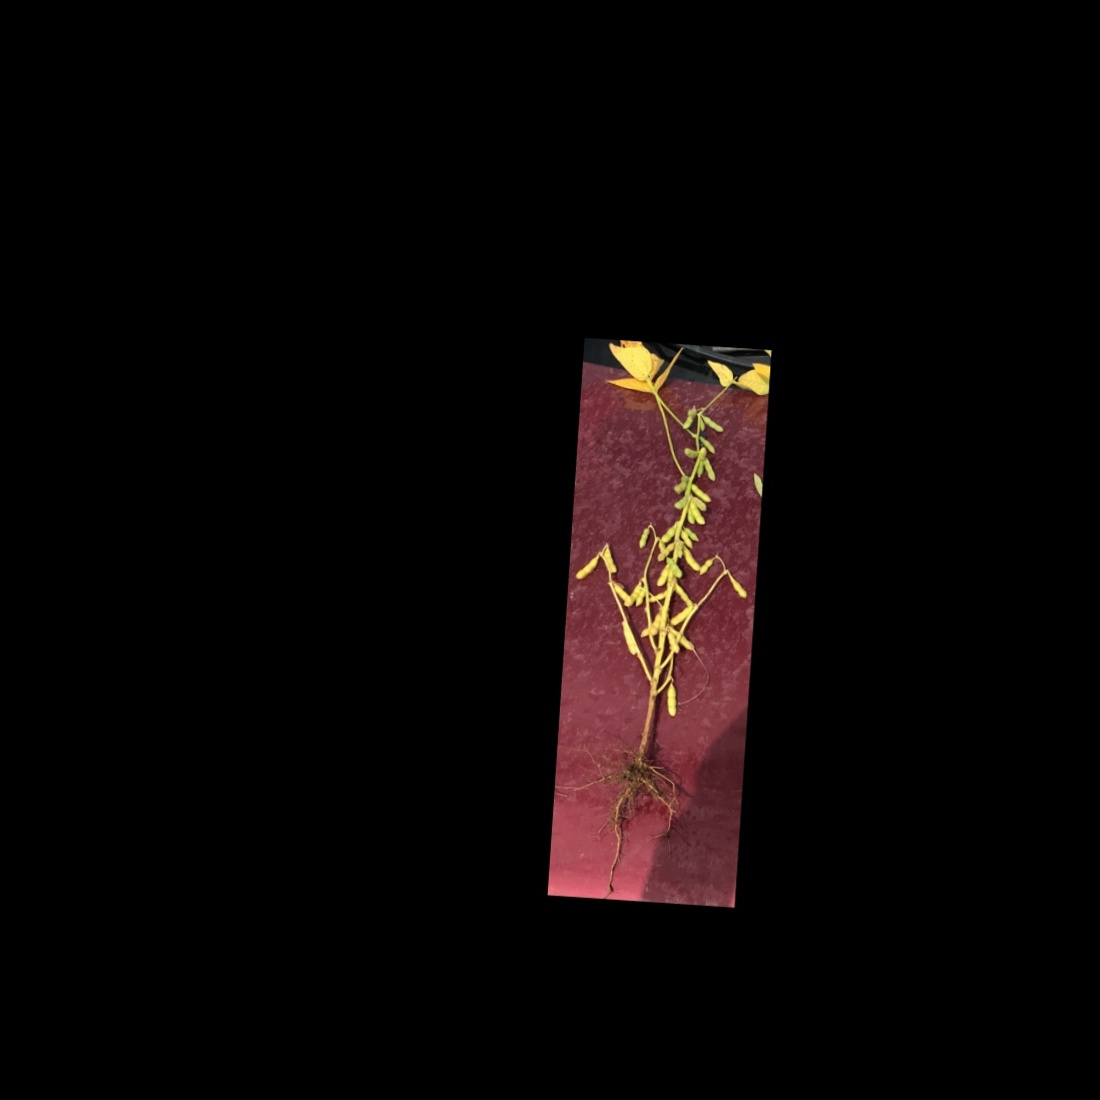pod: (574, 551, 601, 583), (609, 579, 637, 607), (698, 411, 727, 437), (599, 543, 621, 576), (662, 681, 681, 717), (671, 582, 696, 609), (726, 572, 750, 600), (621, 579, 642, 610), (666, 602, 692, 628), (686, 499, 708, 528), (699, 455, 719, 486), (687, 482, 712, 506), (653, 560, 673, 590), (682, 544, 702, 572), (696, 433, 718, 457), (657, 519, 678, 544), (642, 589, 672, 606), (695, 555, 717, 577), (681, 444, 703, 464), (635, 524, 650, 553)
soy: (553, 347, 763, 895)
